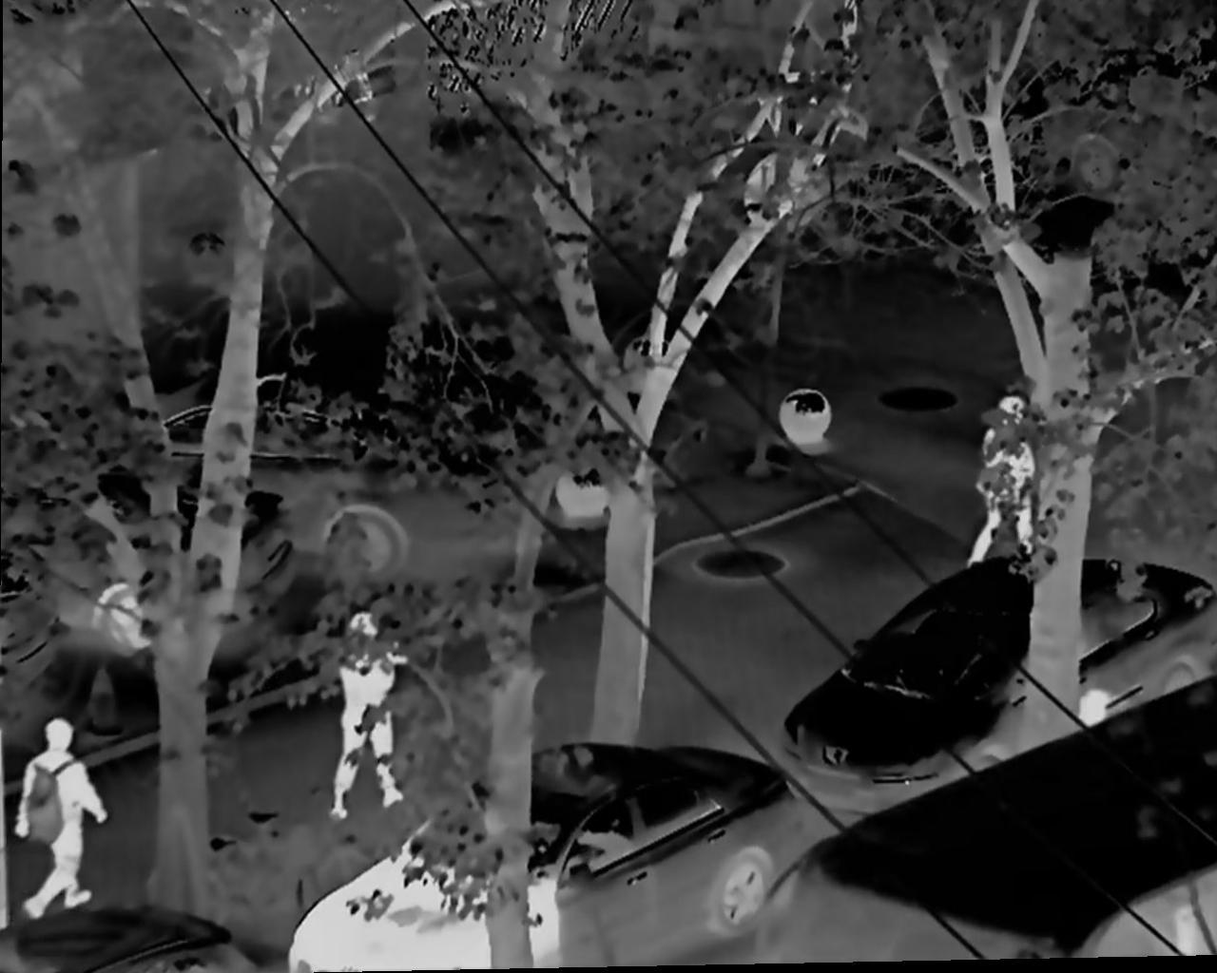person: (11, 716, 104, 918), (972, 395, 1038, 567), (332, 657, 401, 817)
